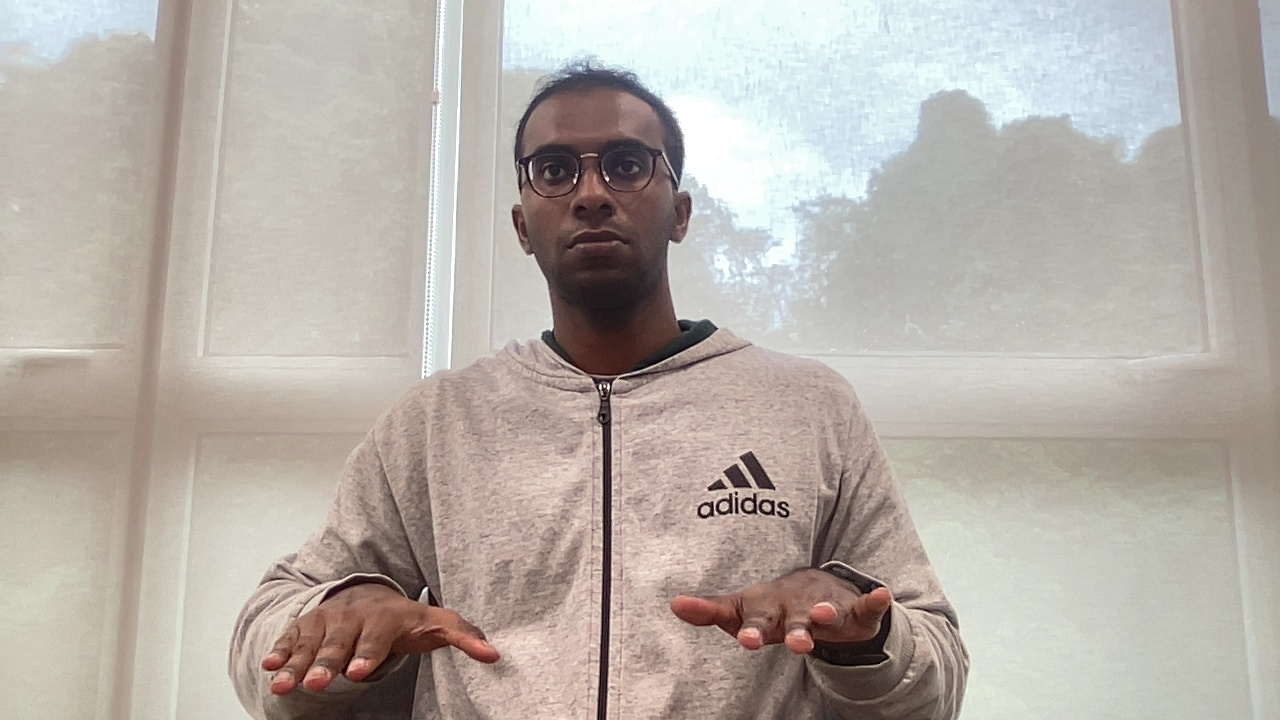finish: (250, 579, 908, 698)
